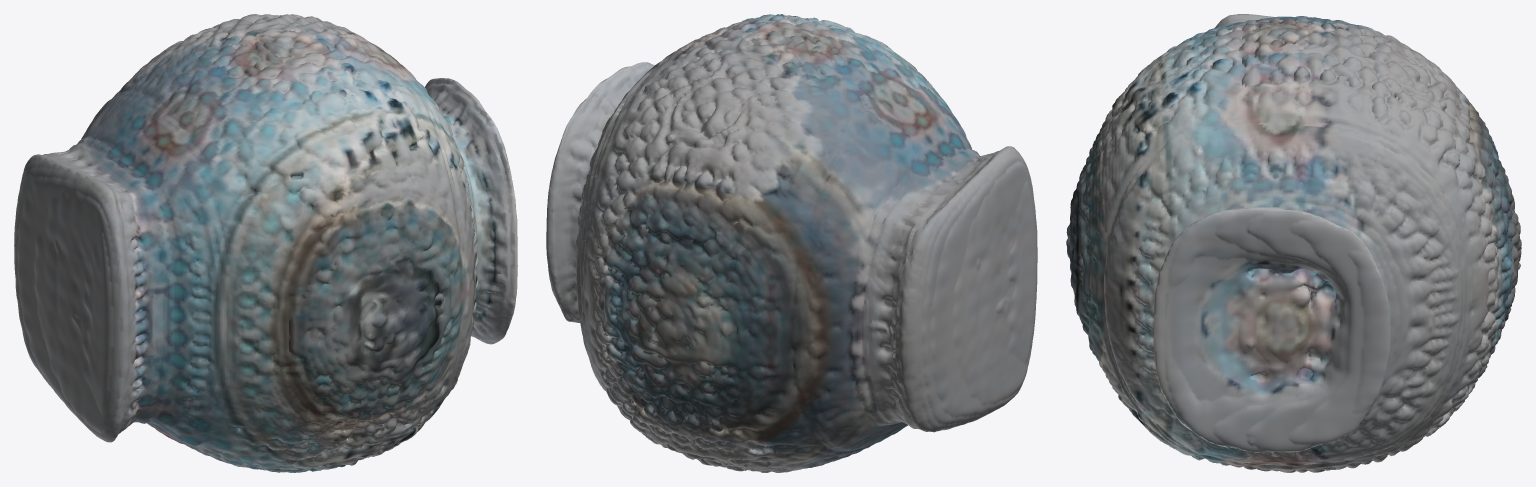
The picture shows the model from 3 angles, left to right: view 1: azimuth 30°, elevation 25°; view 2: azimuth 150°, elevation 25°; view 3: azimuth 270°, elevation 25°; orthographic projection.
Visible parts, largest first — view 1: world; view 2: world; view 3: world.
Part boxes in pixels (bbox=[...]): world: bbox=[14, 14, 517, 472]; world: bbox=[546, 14, 1037, 472]; world: bbox=[1066, 14, 1521, 472].
Bounding box in the file's own units: 30.42 × 30 × 29.39.
